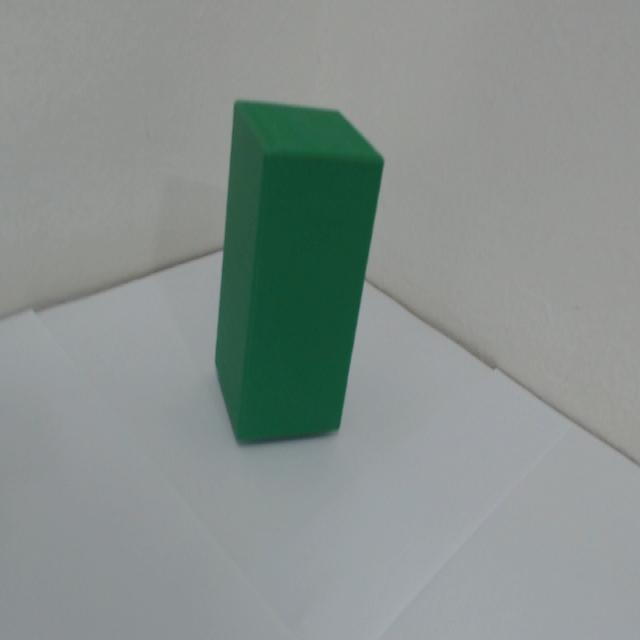cube: (192, 47, 400, 479)
